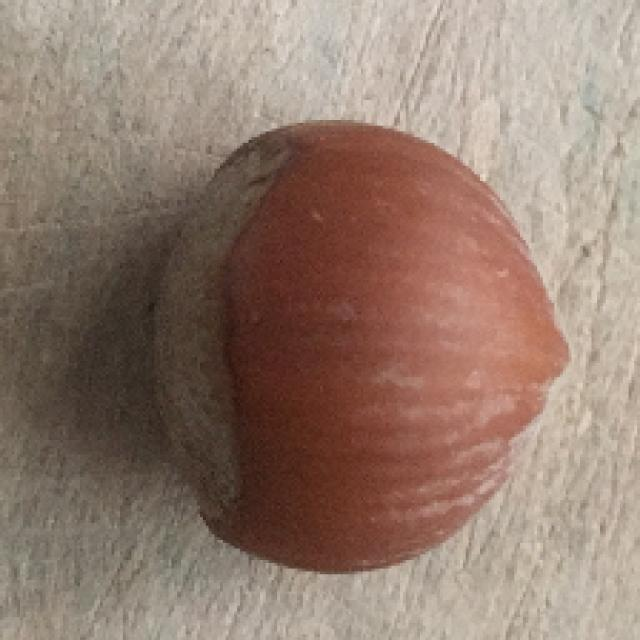QualityHazelnut: (148, 116, 570, 579)
